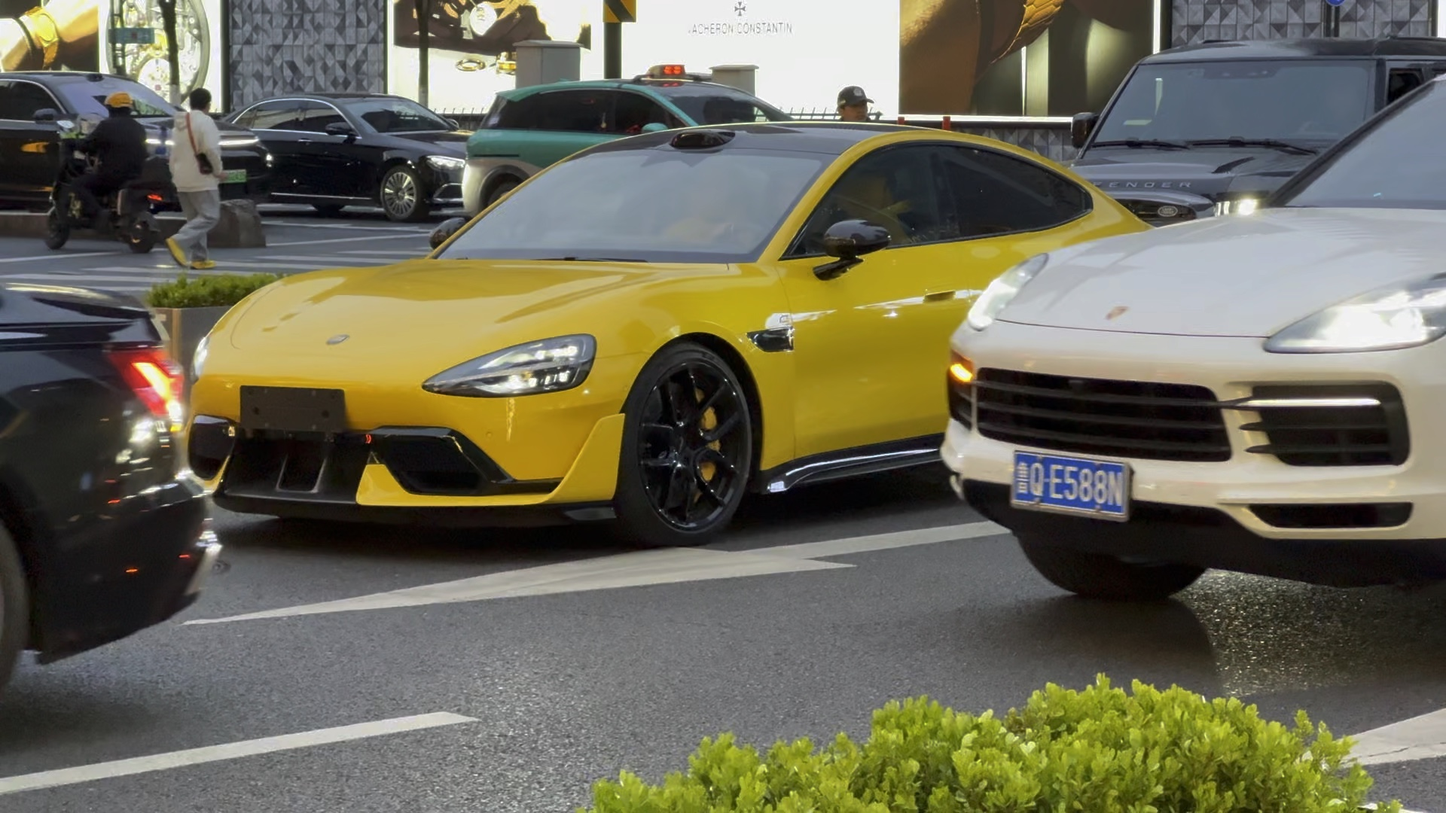other: (921, 57, 1446, 608), (0, 65, 275, 222), (219, 83, 493, 214)
su7: (187, 122, 1148, 505)
